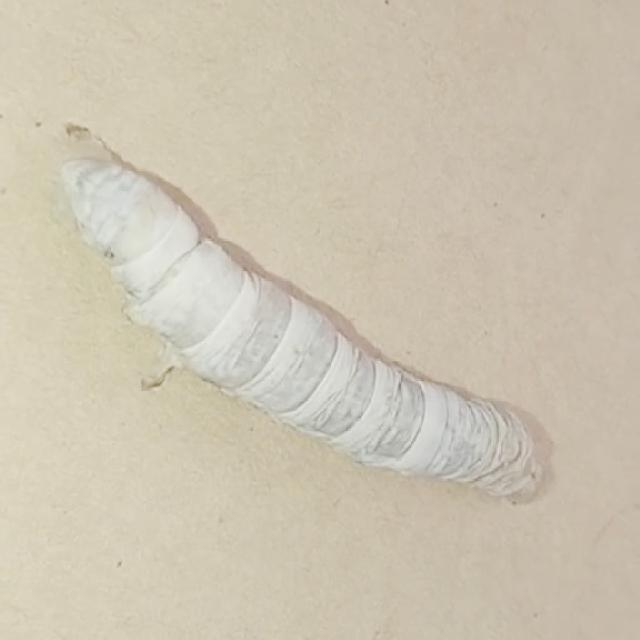Grasserie: (63, 142, 557, 512)
